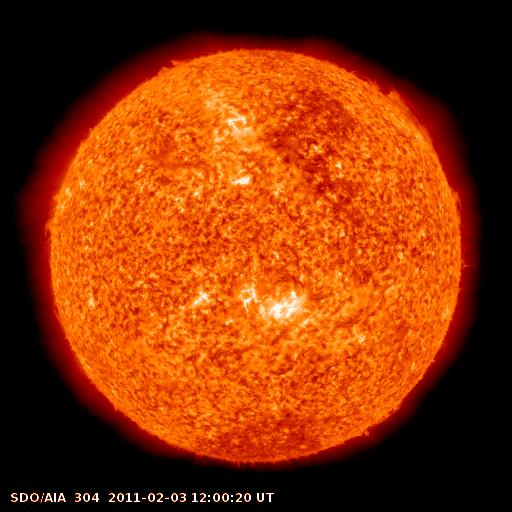prominence: (346, 56, 439, 146), (443, 166, 487, 294), (143, 38, 231, 83), (29, 185, 70, 253)
